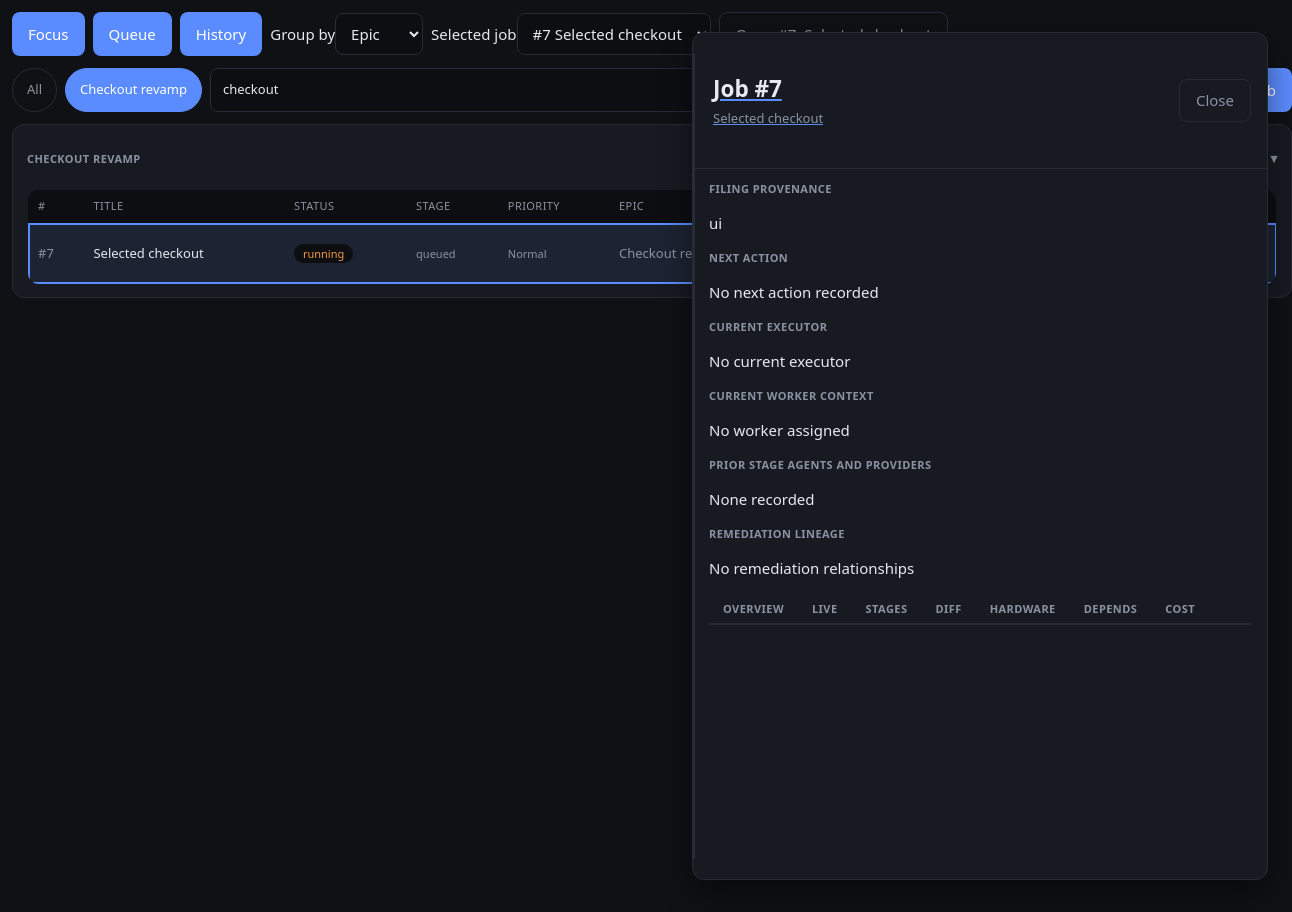
Scenario: WorkLanes › makes epic groups toggleable without changing the active filter or selection
The image size is (1292, 912).
Click the button "Checkout revamp 1 ▾".
click(84, 158)  # box [27, 137, 1277, 181]
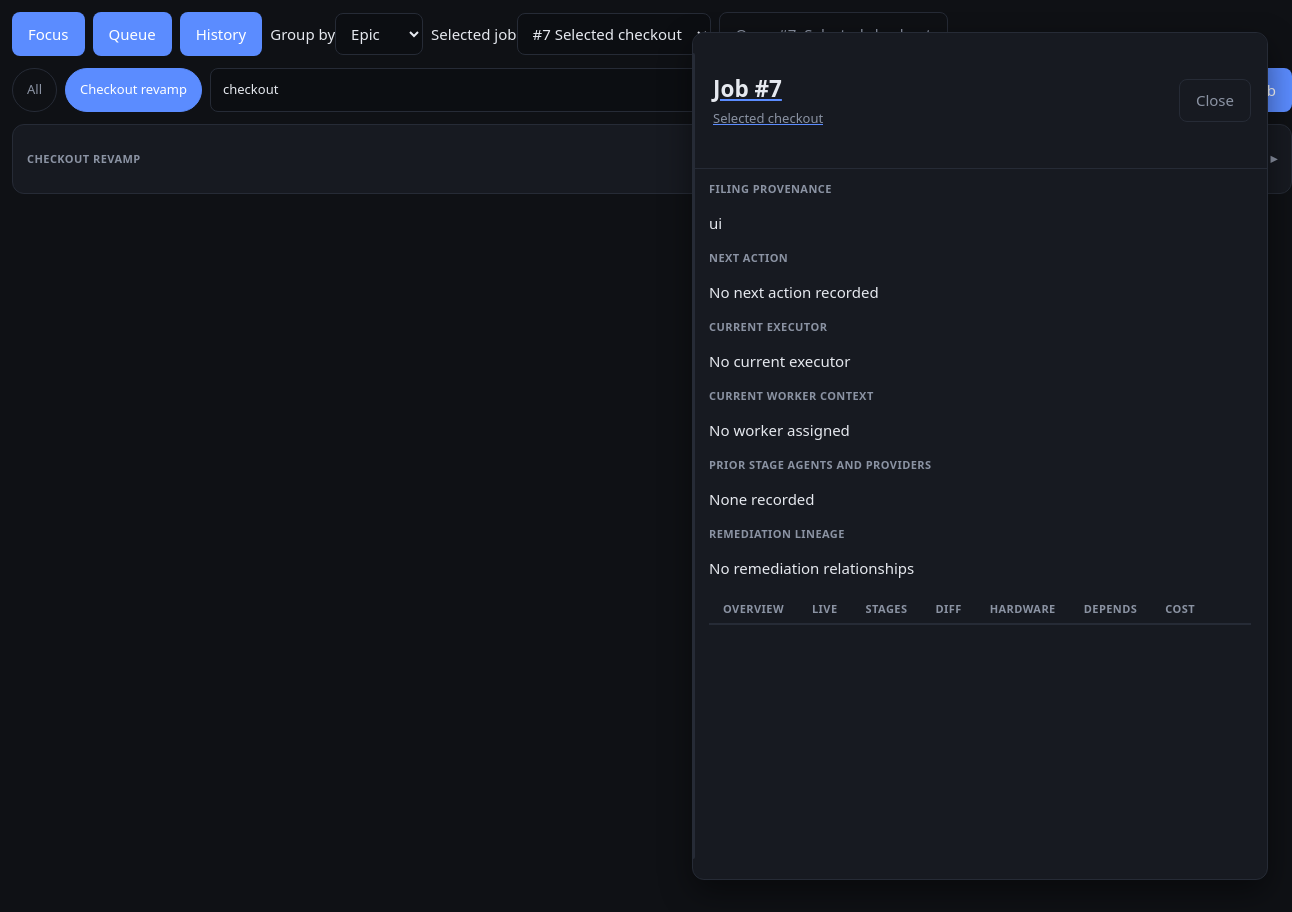
Click the button "Checkout revamp 1 ▸".
click(84, 158)  # box [27, 137, 1277, 181]
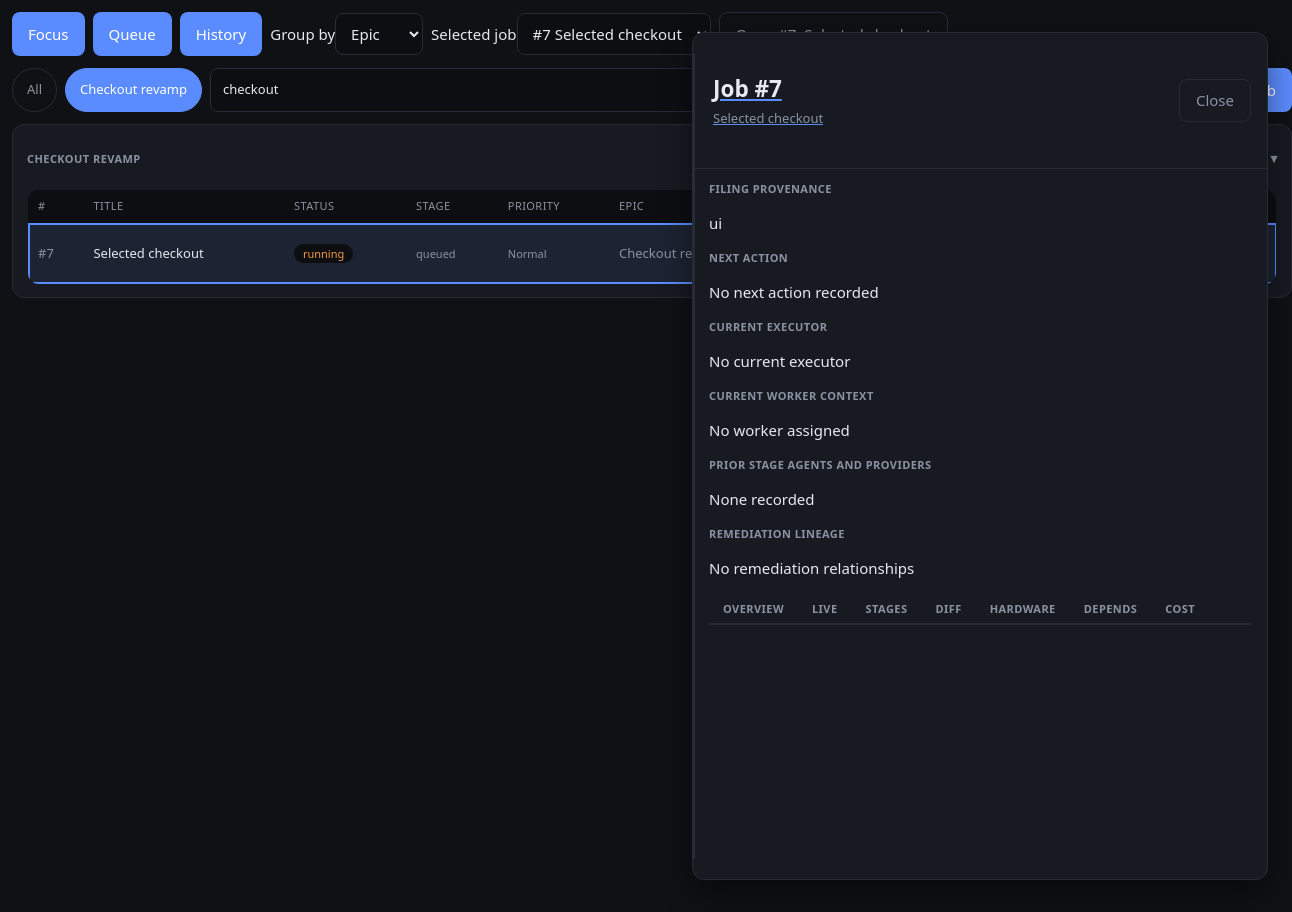
expect the field with placeholder "Search…" holds "checkout": met, box [210, 68, 1119, 112]
expect the text "Selected checkout" next to "running" is shown: met, box [94, 244, 204, 262]
